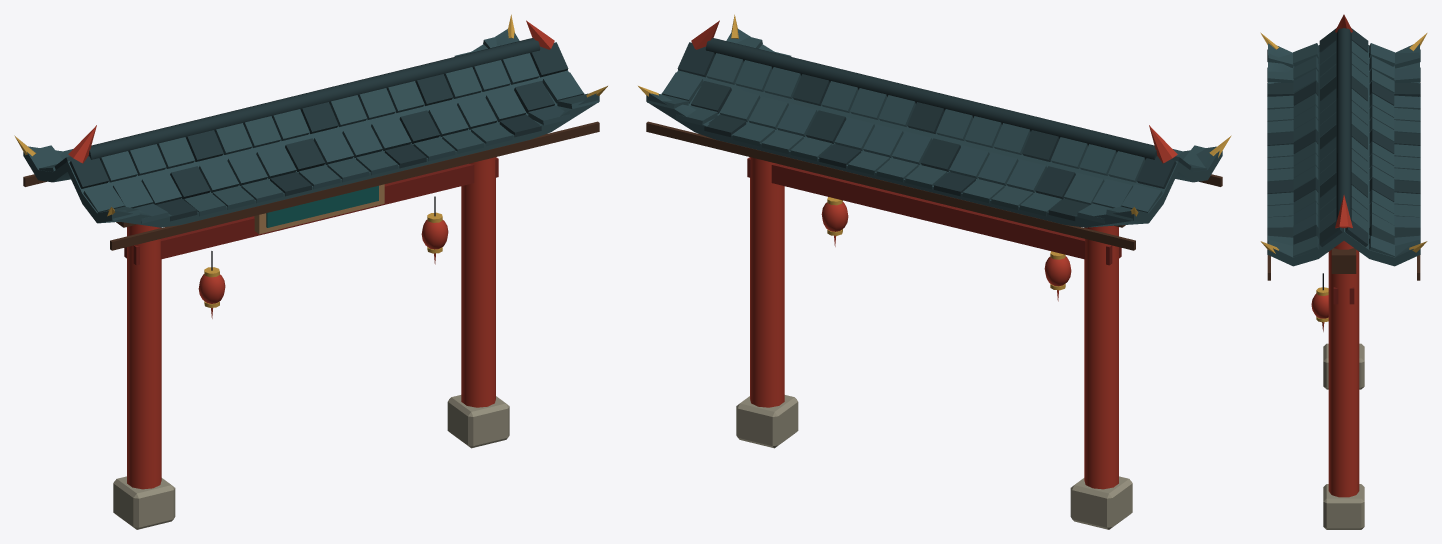
Rendered from gate_village.glb.
3 views of the same model, side by side, from view 1: azimuth 30°, elevation 25°; view 2: azimuth 150°, elevation 25°; view 3: azimuth 270°, elevation 25° (orthographic). The views are drawn at different scales.
Parts seen in each view (by area): view 1: Gate; view 2: Gate; view 3: Gate.
Boxes of the visible parts, bbox=[...] form: Gate: bbox=[14, 14, 607, 529]; Gate: bbox=[638, 14, 1231, 529]; Gate: bbox=[1260, 14, 1427, 529].
Size of what is drawn, in the model's own units: 7.13 by 5.55 by 2.42.
